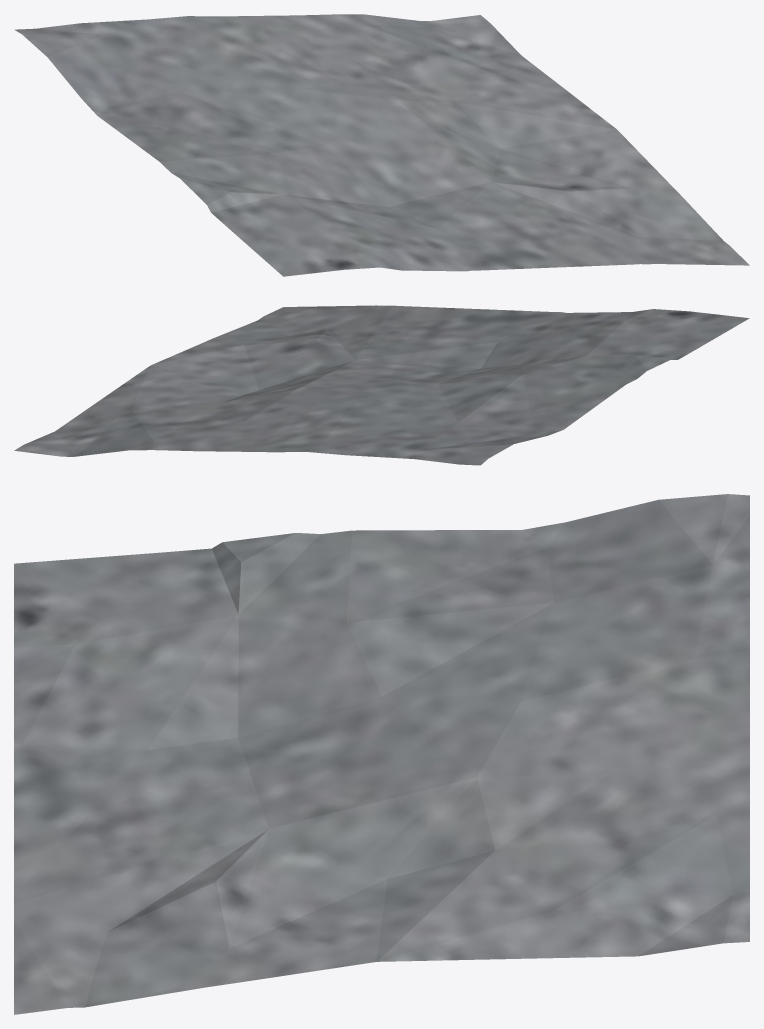
3 views of the same model, one above another, from view 1: azimuth 30°, elevation 25°; view 2: azimuth 150°, elevation 25°; view 3: azimuth 270°, elevation 25° (orthographic). The views are drawn at different scales.
Size of the model in its own units: 0.8374 by 0.2635 by 0.8373.
Materials: 2 (2 with a texture image).
